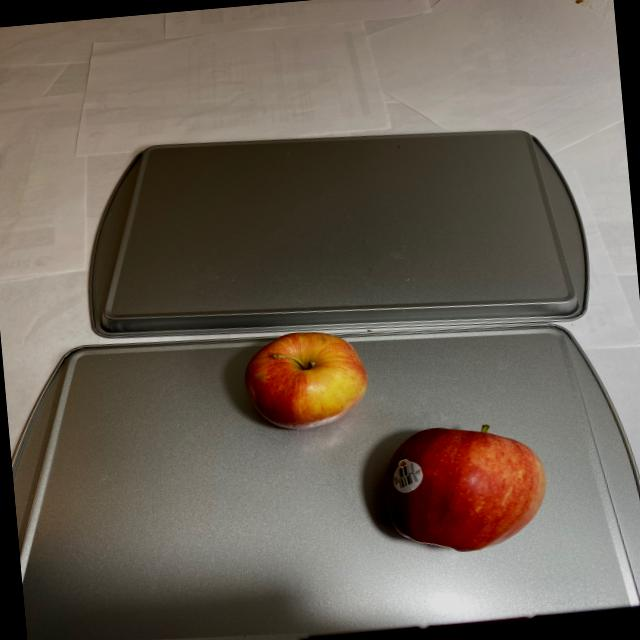apple: (374, 408, 551, 556), (234, 326, 376, 434)
